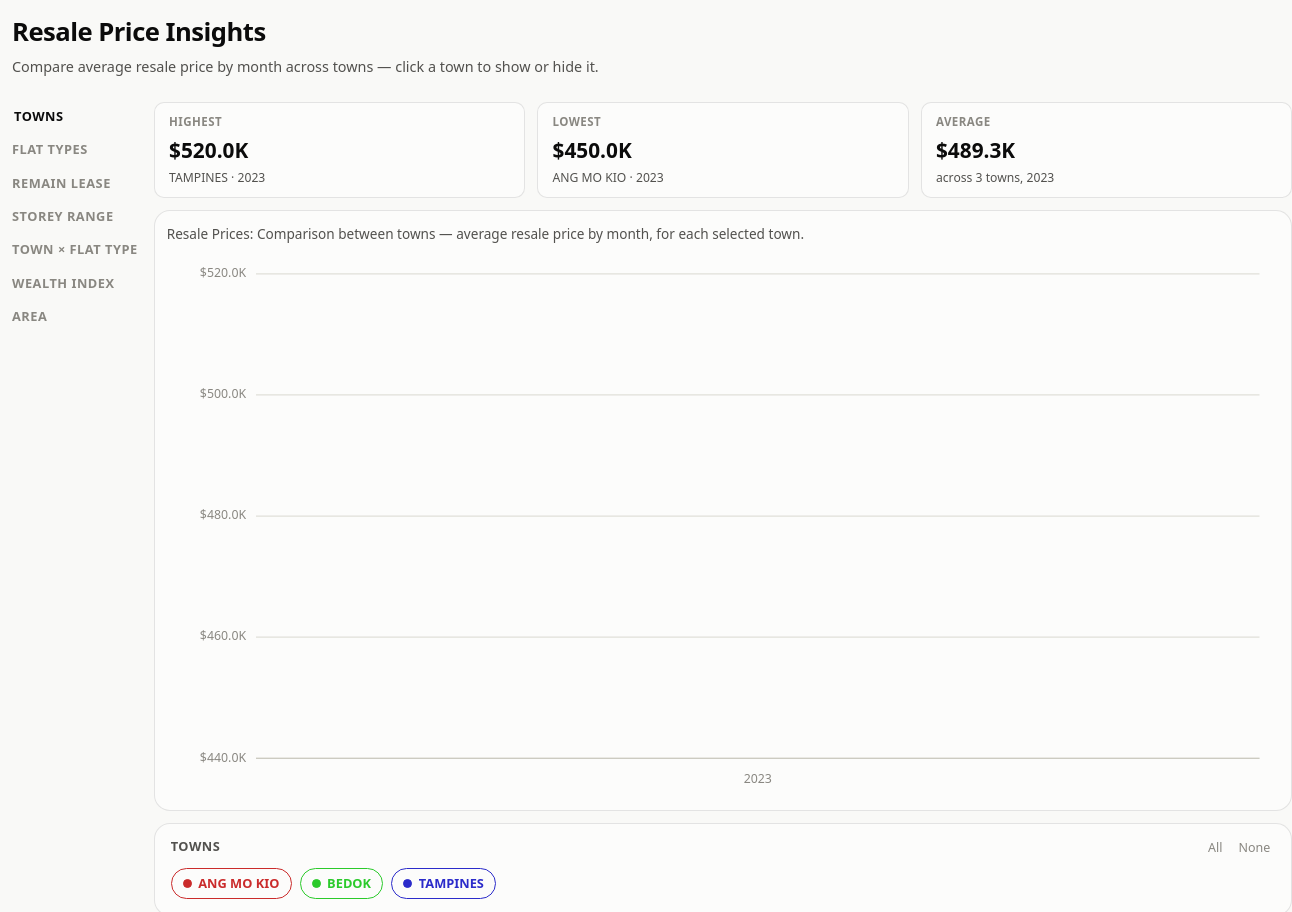
Test: InsightsPage › switches to the Storey Range chart when that nav item is clicked
This screenshot has width=1292, height=912.
Expected: the button "BEDOK" is shown, 300,868 -> 383,899
Click the button "Storey Range" at (75, 217), box 12,202 -> 138,232
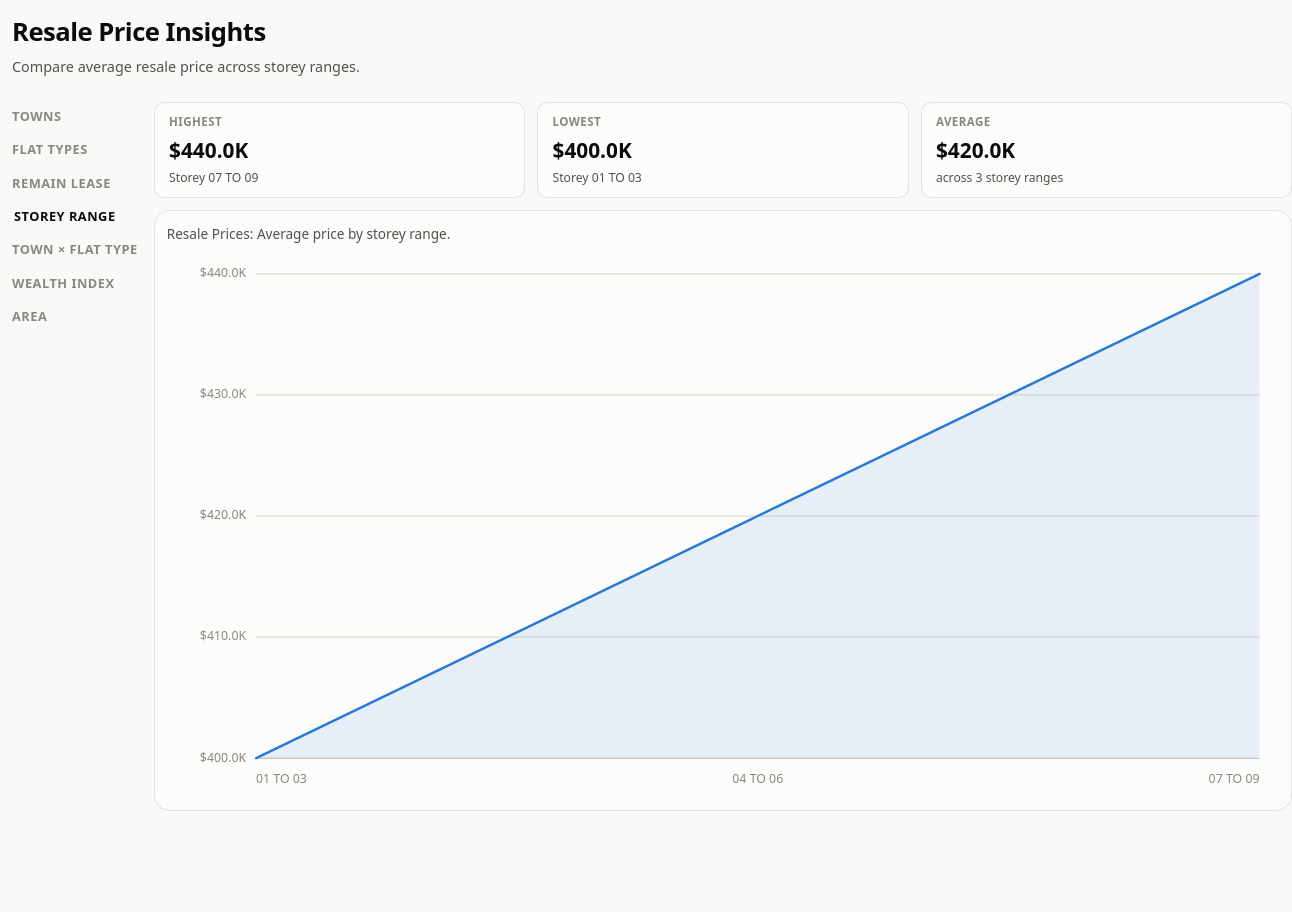
Expected: the picture named "average resale price by storey range" is shown, 167,254 -> 1279,798
Expected: the button "BEDOK" is gone
Expected: the button "All" is gone
